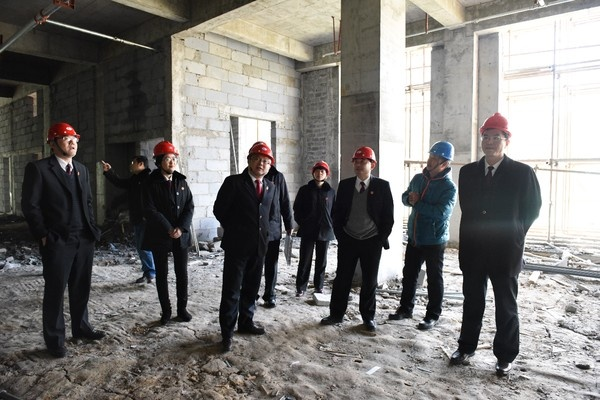blue: (422, 139, 455, 173)
none: (127, 153, 150, 176)
red: (44, 119, 80, 158), (479, 112, 510, 157), (245, 144, 275, 178), (152, 139, 178, 173), (350, 145, 377, 177), (309, 160, 330, 183)
